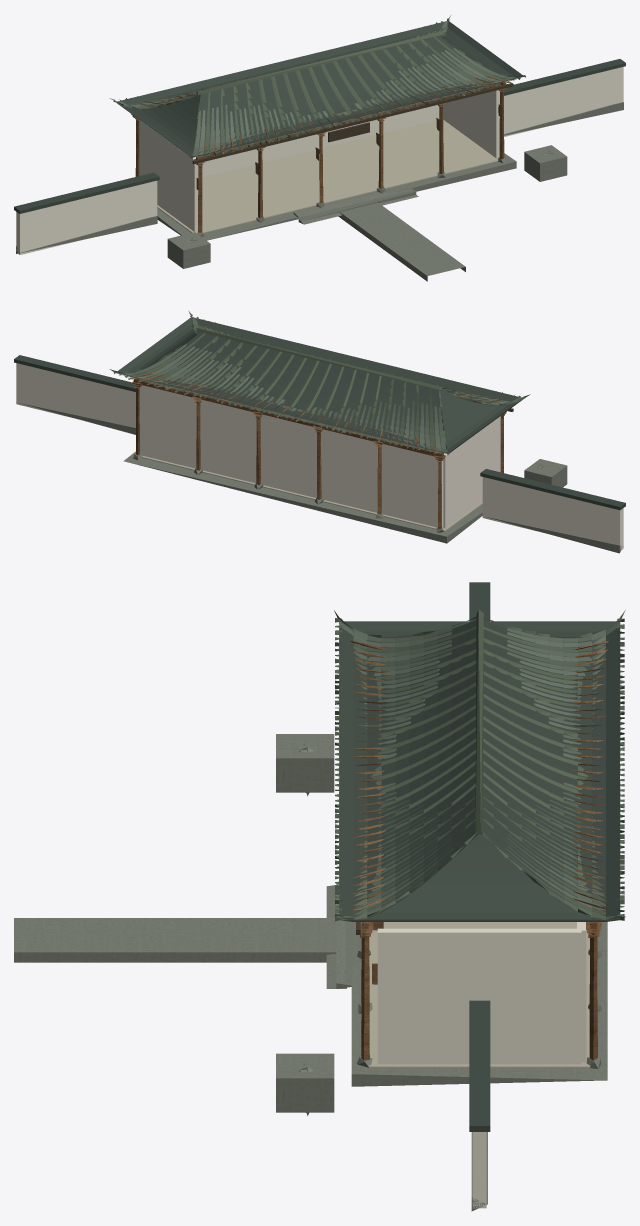
The model's file is public_models_places-low_daguanyuan_gate.glb.
3 renders of one model, top to bottom at view 1: azimuth 30°, elevation 25°; view 2: azimuth 150°, elevation 25°; view 3: azimuth 270°, elevation 25°, orthographic. The views are drawn at different scales.
Parts seen in each view (by area): view 1: daguanyuan_gate_roof, daguanyuan_gate_plaster, daguanyuan_gate_paving, daguanyuan_gate_stone, daguanyuan_gate_tiledark, daguanyuan_gate_wood, daguanyuan_gate_tile, daguanyuan_gate_tilelight, daguanyuan_gate_darkwood; view 2: daguanyuan_gate_plaster, daguanyuan_gate_roof, daguanyuan_gate_tiledark, daguanyuan_gate_stone, daguanyuan_gate_wood, daguanyuan_gate_tile, daguanyuan_gate_tilelight, daguanyuan_gate_paving; view 3: daguanyuan_gate_roof, daguanyuan_gate_stone, daguanyuan_gate_plaster, daguanyuan_gate_tiledark, daguanyuan_gate_tile, daguanyuan_gate_wood, daguanyuan_gate_tilelight, daguanyuan_gate_paving.
Part boxes in pixels (x1=…): daguanyuan_gate_roof: x1=14, y1=21, x2=625, y2=213; daguanyuan_gate_plaster: x1=16, y1=67, x2=623, y2=254; daguanyuan_gate_paving: x1=157, y1=120, x2=498, y2=233; daguanyuan_gate_stone: x1=16, y1=102, x2=623, y2=281; daguanyuan_gate_tiledark: x1=109, y1=15, x2=525, y2=158; daguanyuan_gate_wood: x1=131, y1=30, x2=511, y2=232; daguanyuan_gate_tile: x1=116, y1=20, x2=522, y2=157; daguanyuan_gate_tilelight: x1=130, y1=30, x2=511, y2=156; daguanyuan_gate_darkwood: x1=192, y1=83, x2=513, y2=164; daguanyuan_gate_plaster: x1=16, y1=363, x2=623, y2=550; daguanyuan_gate_roof: x1=14, y1=317, x2=625, y2=510; daguanyuan_gate_tiledark: x1=109, y1=311, x2=530, y2=455; daguanyuan_gate_stone: x1=16, y1=402, x2=623, y2=553; daguanyuan_gate_wood: x1=128, y1=326, x2=506, y2=529; daguanyuan_gate_tile: x1=118, y1=317, x2=521, y2=453; daguanyuan_gate_tilelight: x1=128, y1=327, x2=509, y2=452; daguanyuan_gate_paving: x1=142, y1=455, x2=482, y2=531; daguanyuan_gate_roof: x1=339, y1=582, x2=619, y2=1131; daguanyuan_gate_stone: x1=14, y1=734, x2=607, y2=1211; daguanyuan_gate_plaster: x1=377, y1=922, x2=586, y2=1208; daguanyuan_gate_tiledark: x1=333, y1=609, x2=625, y2=921; daguanyuan_gate_tile: x1=338, y1=621, x2=620, y2=920; daguanyuan_gate_wood: x1=338, y1=640, x2=609, y2=1060; daguanyuan_gate_tilelight: x1=338, y1=628, x2=620, y2=910; daguanyuan_gate_paving: x1=369, y1=922, x2=590, y2=1068.
Size of the model in its own units: 44.2 by 8.83 by 21.03.
Materials: 9 (2 with a texture image).
